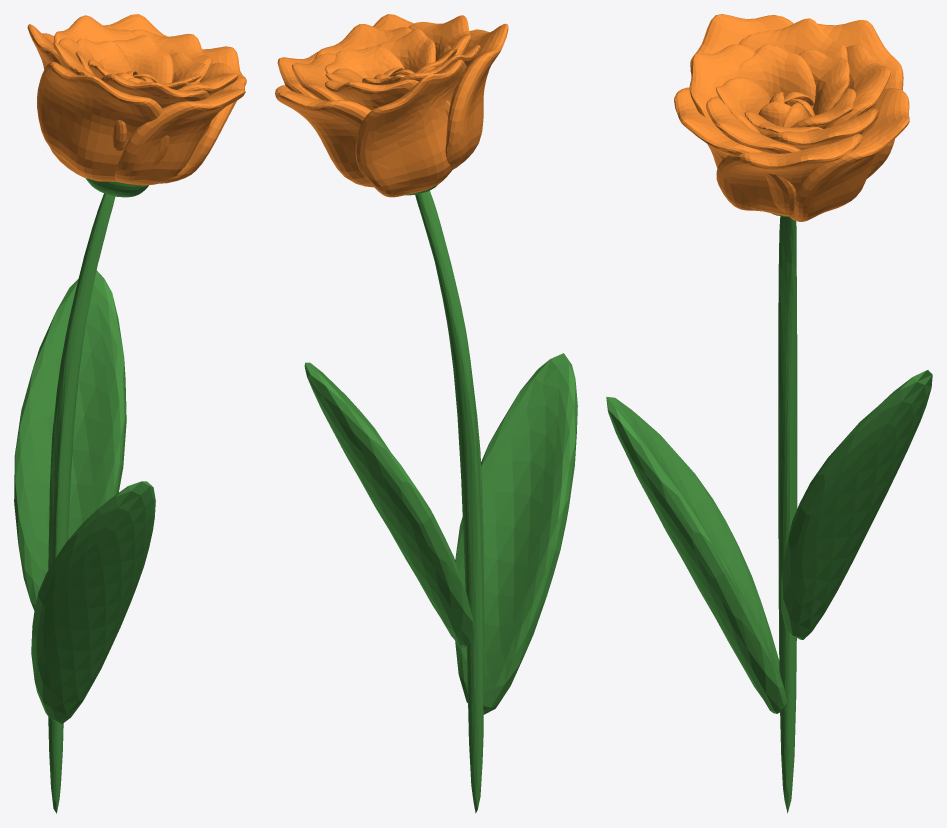
File: Affection_Lisianthus.glb
3 renders of one model, left to right at view 1: azimuth 30°, elevation 25°; view 2: azimuth 150°, elevation 25°; view 3: azimuth 270°, elevation 25°, orthographic. The views are drawn at different scales.
Parts seen in each view (by area): view 1: Cube.009; view 2: Cube.009; view 3: Cube.009.
Part boxes in pixels (x1,y1,x2,y2): Cube.009: (14,14,246,813); Cube.009: (275,14,577,813); Cube.009: (606,14,932,813).
Size of the model in its own units: 3.91 by 12.07 by 4.46.
